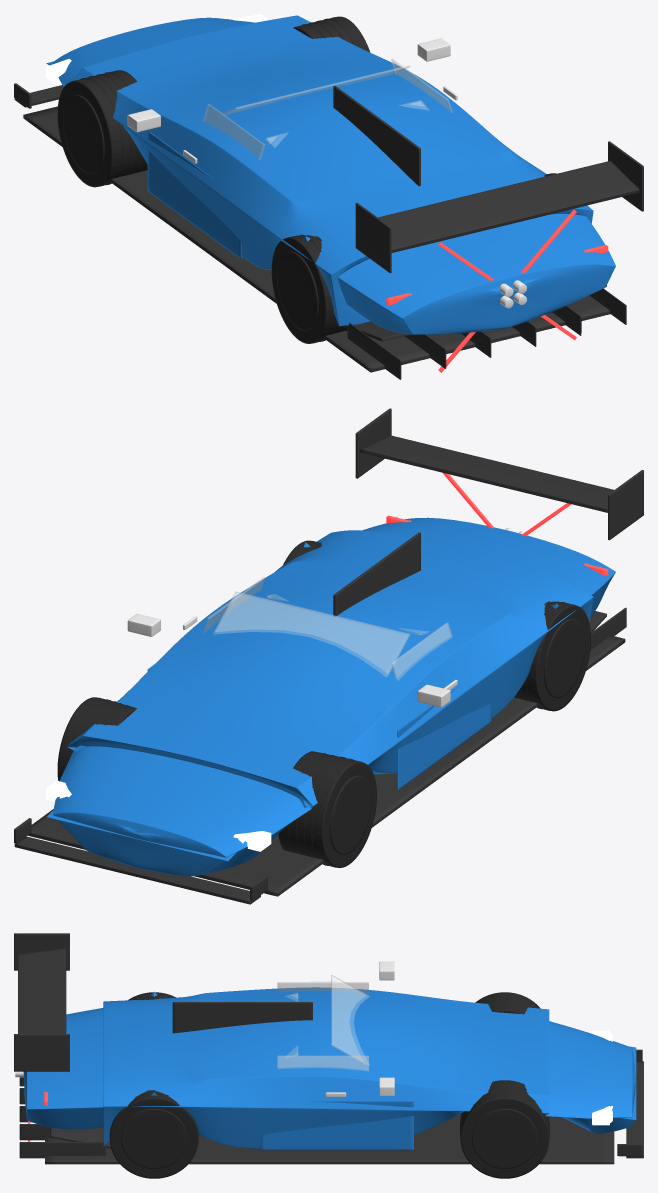
Rendered from Car_Bugatti_Bolide_future_Complete.glb.
3 views of the same model, one above another, from view 1: azimuth 30°, elevation 25°; view 2: azimuth 150°, elevation 25°; view 3: azimuth 270°, elevation 25° (orthographic). The views are drawn at different scales.
Parts seen in each view (by area): view 1: BODY_MainShell, AERO_Bolide_SharkFinAndWing, UNDERBODY_FlatFloor, WHEEL_FL_Tire, WHEEL_RL_Tire, BODY_Door_FL, GLASS_Greenhouse, JEWELRY_Hardware, WHEEL_FR_Tire, LIGHTING_Bolide_XPatternTaillights, AERO_FrontSplitter, LIGHTING_Headlamps (+1 smaller); view 2: BODY_MainShell, AERO_Bolide_SharkFinAndWing, UNDERBODY_FlatFloor, GLASS_Greenhouse, WHEEL_FL_Tire, WHEEL_RL_Tire, AERO_FrontSplitter, BODY_Door_FL, WHEEL_FR_Tire, JEWELRY_Hardware, LIGHTING_Headlamps; view 3: BODY_MainShell, UNDERBODY_FlatFloor, AERO_Bolide_SharkFinAndWing, WHEEL_FR_Tire, WHEEL_RR_Tire, BODY_Door_FR, GLASS_Greenhouse, AERO_FrontSplitter, WHEEL_FL_Tire, JEWELRY_Hardware, LIGHTING_Headlamps.
Boxes of the visible parts, x1,y1,x2,y2 form: BODY_MainShell: (52,15,615,334); AERO_Bolide_SharkFinAndWing: (333,86,643,272); UNDERBODY_FlatFloor: (23,106,626,379); WHEEL_FL_Tire: (57,70,147,187); WHEEL_RL_Tire: (271,234,347,343); BODY_Door_FL: (147,131,241,259); GLASS_Greenhouse: (203,59,452,159); JEWELRY_Hardware: (127,38,457,163); WHEEL_FR_Tire: (293,16,370,52); LIGHTING_Bolide_XPatternTaillights: (438,209,576,372); AERO_FrontSplitter: (14,83,63,108); LIGHTING_Headlamps: (46,14,268,84); BODY_MainShell: (52,517,615,876); AERO_Bolide_SharkFinAndWing: (333,408,643,616); UNDERBODY_FlatFloor: (28,607,626,896); GLASS_Greenhouse: (203,577,452,680); WHEEL_FL_Tire: (278,751,376,867); WHEEL_RL_Tire: (514,601,590,711); AERO_FrontSplitter: (14,818,267,904); BODY_Door_FL: (397,680,491,790); WHEEL_FR_Tire: (57,697,136,780); JEWELRY_Hardware: (127,614,457,707); LIGHTING_Headlamps: (46,780,271,851); BODY_MainShell: (23,987,636,1148); UNDERBODY_FlatFloor: (19,1077,614,1164); AERO_Bolide_SharkFinAndWing: (14,933,312,1071); WHEEL_FR_Tire: (460,1080,549,1178); WHEEL_RR_Tire: (109,1090,199,1178); BODY_Door_FR: (260,1100,413,1150); GLASS_Greenhouse: (277,975,369,1071); AERO_FrontSplitter: (617,1049,643,1158); WHEEL_FL_Tire: (475,992,540,1014); JEWELRY_Hardware: (325,961,394,1096); LIGHTING_Headlamps: (592,1030,612,1125).
Size of what is drawn, in the model's own units: 2.33 by 1.23 by 4.94.
